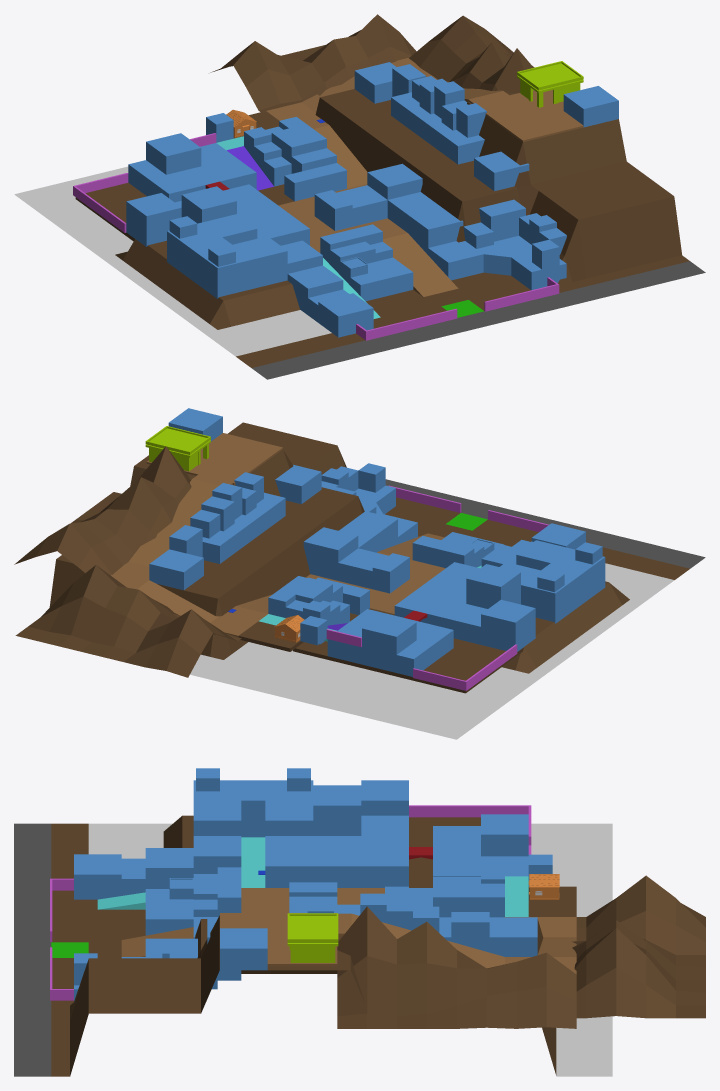
The model's file is Copy of City_1C.fbx_1-Scene.fbx.
The picture shows the model from 3 angles, top to bottom: view 1: azimuth 30°, elevation 25°; view 2: azimuth 150°, elevation 25°; view 3: azimuth 270°, elevation 25°; orthographic projection. The views are drawn at different scales.
Visible parts, largest first — view 1: 0_base.002, mountain, path.001, house.011, mountain.001, house.002, house.021, house.050, house.010, house.044, house.042, store (+32 smaller); view 2: 0_base.002, mountain, mountain.001, path.001, house.011, house.021, Cube.004, house.010, house.050, house.042, house.044, house.039 (+29 smaller); view 3: 0_base.002, mountain.001, mountain, house.010, house.011, path.001, house.021, store, house.033, house.044, house.045, house.058 (+30 smaller).
Boxes of the visible parts, x1=… form: 0_base.002: x1=14, y1=89, x2=705, y2=379; mountain: x1=210, y1=14, x2=416, y2=111; path.001: x1=266, y1=58, x2=529, y2=296; house.011: x1=167, y1=214, x2=287, y2=298; mountain.001: x1=409, y1=15, x2=534, y2=93; house.002: x1=428, y1=236, x2=566, y2=290; house.021: x1=128, y1=143, x2=256, y2=202; house.050: x1=391, y1=92, x2=484, y2=164; house.010: x1=223, y1=184, x2=309, y2=245; house.044: x1=485, y1=90, x2=583, y2=142; house.042: x1=126, y1=193, x2=181, y2=246; store: x1=517, y1=61, x2=583, y2=107; 0_base.002: x1=49, y1=422, x2=705, y2=739; mountain: x1=15, y1=565, x2=241, y2=677; mountain.001: x1=14, y1=446, x2=191, y2=575; path.001: x1=111, y1=460, x2=445, y2=637; house.011: x1=499, y1=540, x2=605, y2=623; house.021: x1=327, y1=609, x2=453, y2=676; Cube.004: x1=293, y1=608, x2=523, y2=693; house.010: x1=394, y1=562, x2=479, y2=627; house.050: x1=202, y1=492, x2=285, y2=563; house.042: x1=481, y1=599, x2=535, y2=651; house.044: x1=146, y1=433, x2=282, y2=484; house.039: x1=303, y1=527, x2=358, y2=580; 0_base.002: x1=14, y1=815, x2=612, y2=1076; mountain.001: x1=337, y1=906, x2=576, y2=1028; mountain: x1=572, y1=875, x2=705, y2=1018; house.010: x1=265, y1=836, x2=408, y2=887; house.011: x1=193, y1=780, x2=313, y2=837; path.001: x1=121, y1=888, x2=576, y2=974; house.021: x1=433, y1=826, x2=528, y2=876; store: x1=287, y1=913, x2=338, y2=962; house.033: x1=313, y1=785, x2=361, y2=835; house.044: x1=220, y1=913, x2=337, y2=966; house.045: x1=74, y1=854, x2=121, y2=899; house.058: x1=220, y1=928, x2=267, y2=970.
Size of the model in its own units: 265 by 72.08 by 289.
